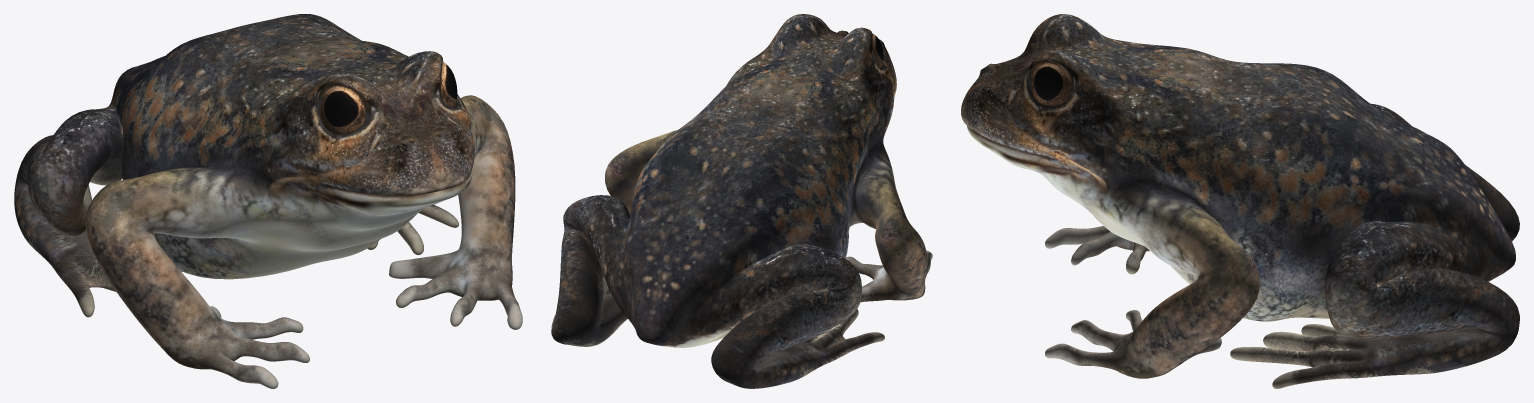
The model's file is frog.fbx.
3 renders of one model, left to right at view 1: azimuth 30°, elevation 25°; view 2: azimuth 150°, elevation 25°; view 3: azimuth 270°, elevation 25°, orthographic. The views are drawn at different scales.
Parts seen in each view (by area): view 1: 12268_banjofrog_v1_L3; view 2: 12268_banjofrog_v1_L3; view 3: 12268_banjofrog_v1_L3.
Boxes of the visible parts, left/top/right/bottom form: 12268_banjofrog_v1_L3: left=14, top=14, right=522, bottom=388; 12268_banjofrog_v1_L3: left=551, top=14, right=932, bottom=388; 12268_banjofrog_v1_L3: left=961, top=14, right=1519, bottom=388.
Bounding box in the file's own units: 4.94 × 3.37 × 6.24.
1 material, 1 textured.
